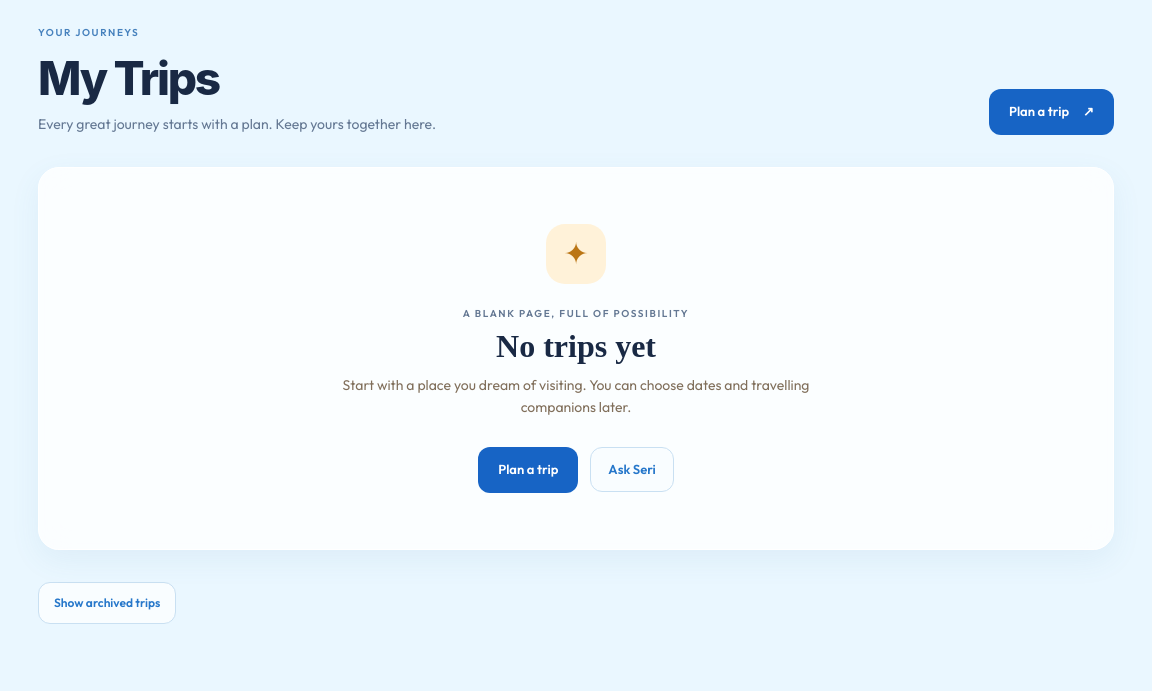
Test case: trip planning screens › shows archived trip history without linking to an unavailable archived detail route
The image size is (1152, 691).
Expected: the heading "No trips yet" is shown, [496,328,656,364]
Click the button "Show archived trips" at [107, 603], box [38,582,176,624]
(page scrolled)
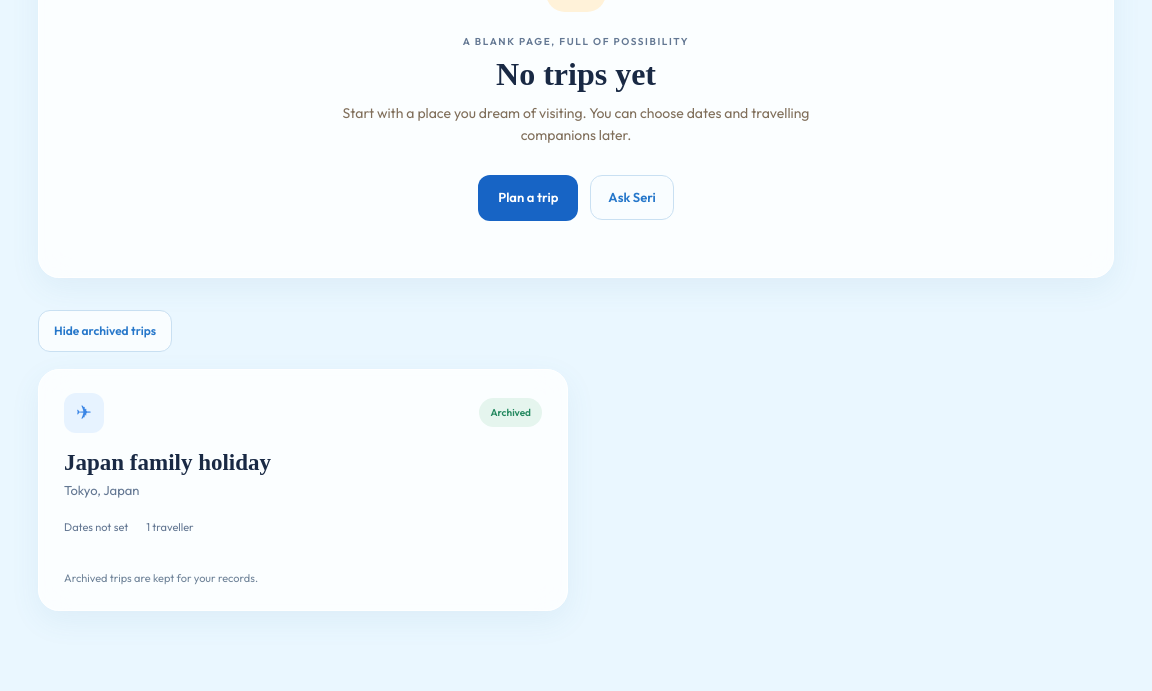
Result: the text "Archived trips are kept for your records." is shown at [64,571,258,585]
